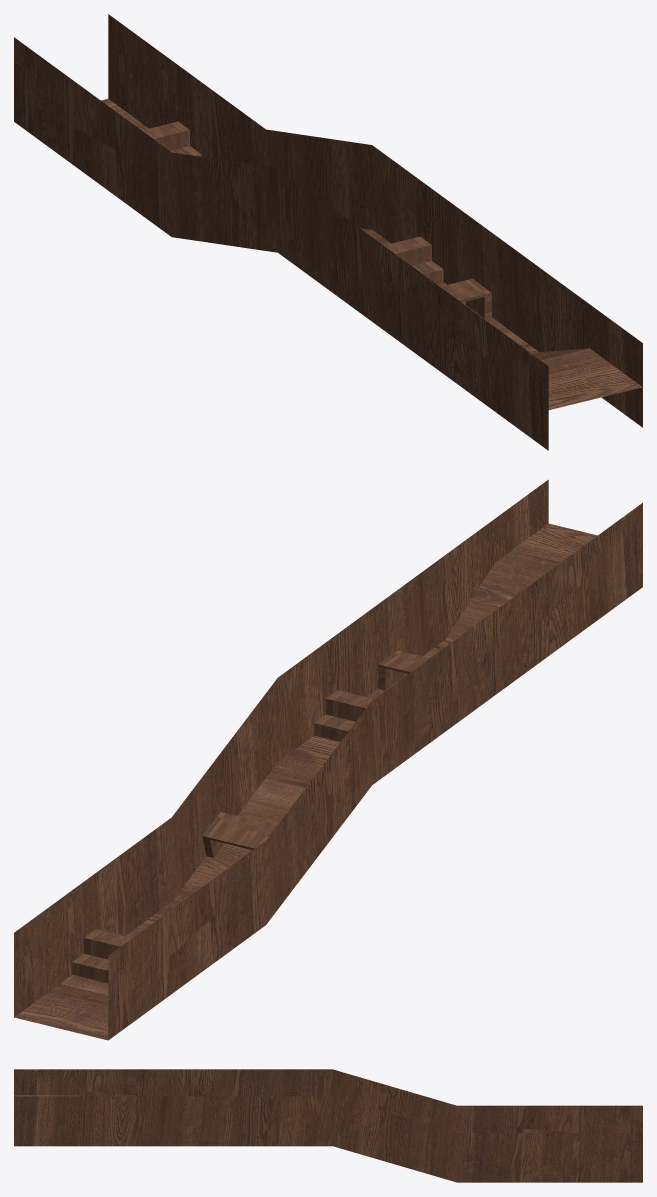
Rendered from level1_.glb.
The picture shows the model from 3 angles, top to bottom: view 1: azimuth 30°, elevation 25°; view 2: azimuth 150°, elevation 25°; view 3: azimuth 270°, elevation 25°; orthographic projection. The views are drawn at different scales.
Visible parts, largest first — view 1: Plane.003, Plane.002, Plane.004, Cube, Plane.001; view 2: Plane.003, Plane.002, Cube.001, Plane.004, Plane.001, Cube; view 3: Plane.003, Plane.001.
Part boxes in pixels (x1=…): Plane.003: x1=14, y1=14, x2=642, y2=450; Plane.002: x1=498, y1=327, x2=642, y2=409; Plane.004: x1=314, y1=236, x2=443, y2=304; Cube: x1=379, y1=279, x2=491, y2=339; Plane.001: x1=78, y1=121, x2=201, y2=187; Plane.003: x1=14, y1=479, x2=642, y2=1040; Plane.002: x1=423, y1=523, x2=597, y2=657; Cube.001: x1=202, y1=812, x2=318, y2=878; Plane.004: x1=314, y1=690, x2=443, y2=758; Plane.001: x1=72, y1=929, x2=201, y2=997; Cube: x1=378, y1=650, x2=491, y2=711; Plane.003: x1=14, y1=1069, x2=642, y2=1182; Plane.001: x1=533, y1=1166, x2=574, y2=1182.
Bounding box in the file's own units: 6.73 × 9.99 × 66.01.
1 material, 1 textured.
